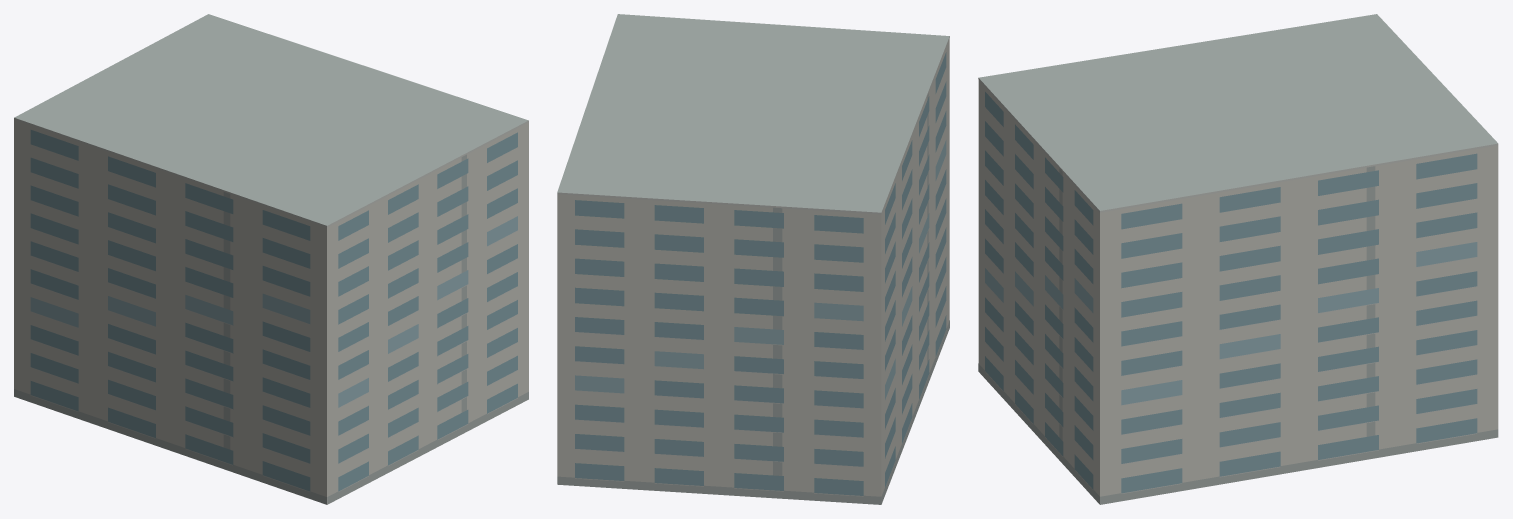
File: survey-upis-32996039.glb
3 renders of one model, left to right at view 1: azimuth 30°, elevation 25°; view 2: azimuth 150°, elevation 25°; view 3: azimuth 270°, elevation 25°, orthographic. The views are drawn at different scales.
Parts seen in each view (by area): view 1: survey-upis-32996039.tmp; view 2: survey-upis-32996039.tmp; view 3: survey-upis-32996039.tmp.
Boxes of the visible parts, x1,y1,x2,y2 form: survey-upis-32996039.tmp: [14, 14, 528, 504]; survey-upis-32996039.tmp: [557, 14, 949, 504]; survey-upis-32996039.tmp: [978, 14, 1498, 504].
Size of the model in its own units: 60.15 by 41.85 by 67.09.
